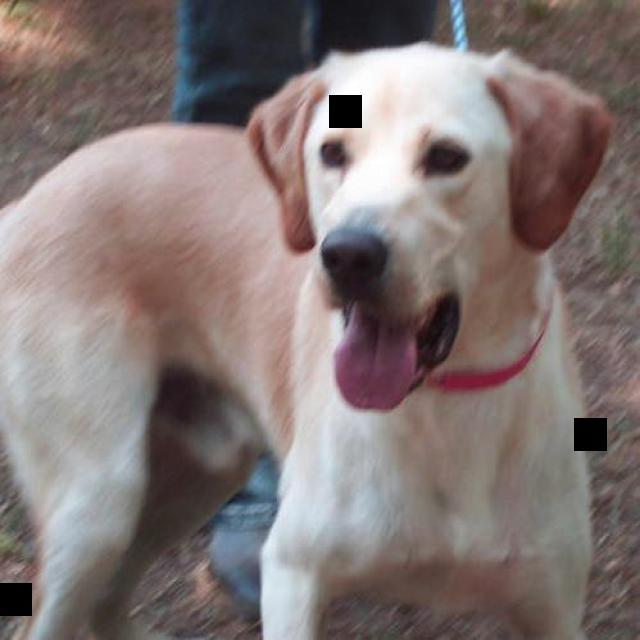adult_dog: (1, 37, 612, 640)
